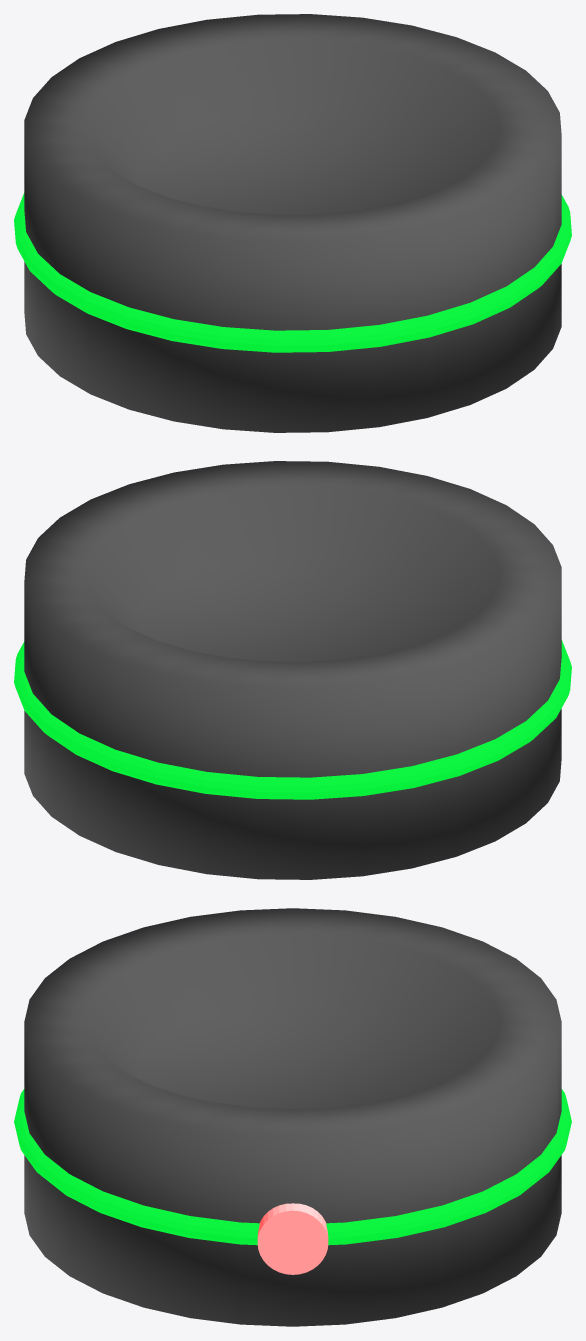
File: stand.fbx
The picture shows the model from 3 angles, top to bottom: view 1: azimuth 30°, elevation 25°; view 2: azimuth 150°, elevation 25°; view 3: azimuth 270°, elevation 25°; orthographic projection.
Visible parts, largest first — view 1: Stand; view 2: Stand; view 3: Stand.
Boxes of the visible parts, x1,y1,x2,y2 form: Stand: (14,14,571,432); Stand: (14,461,571,879); Stand: (14,908,571,1326).
Bounding box in the file's own units: 350 × 131 × 345.
